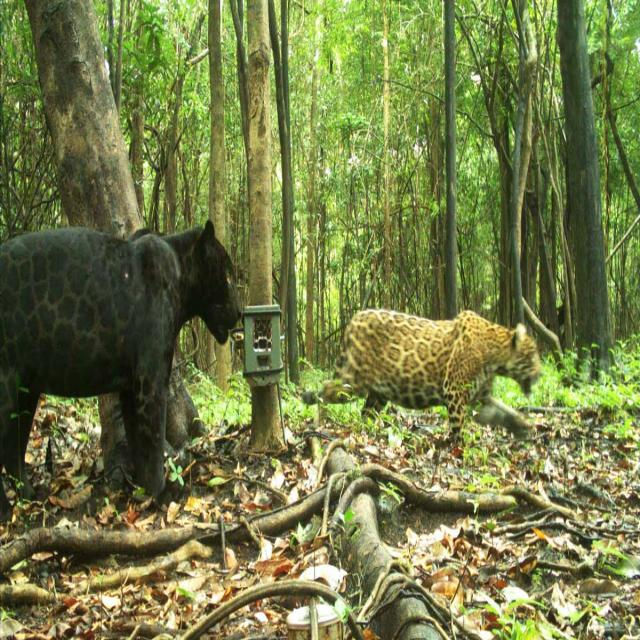Jaguar: (70, 148, 312, 429)
